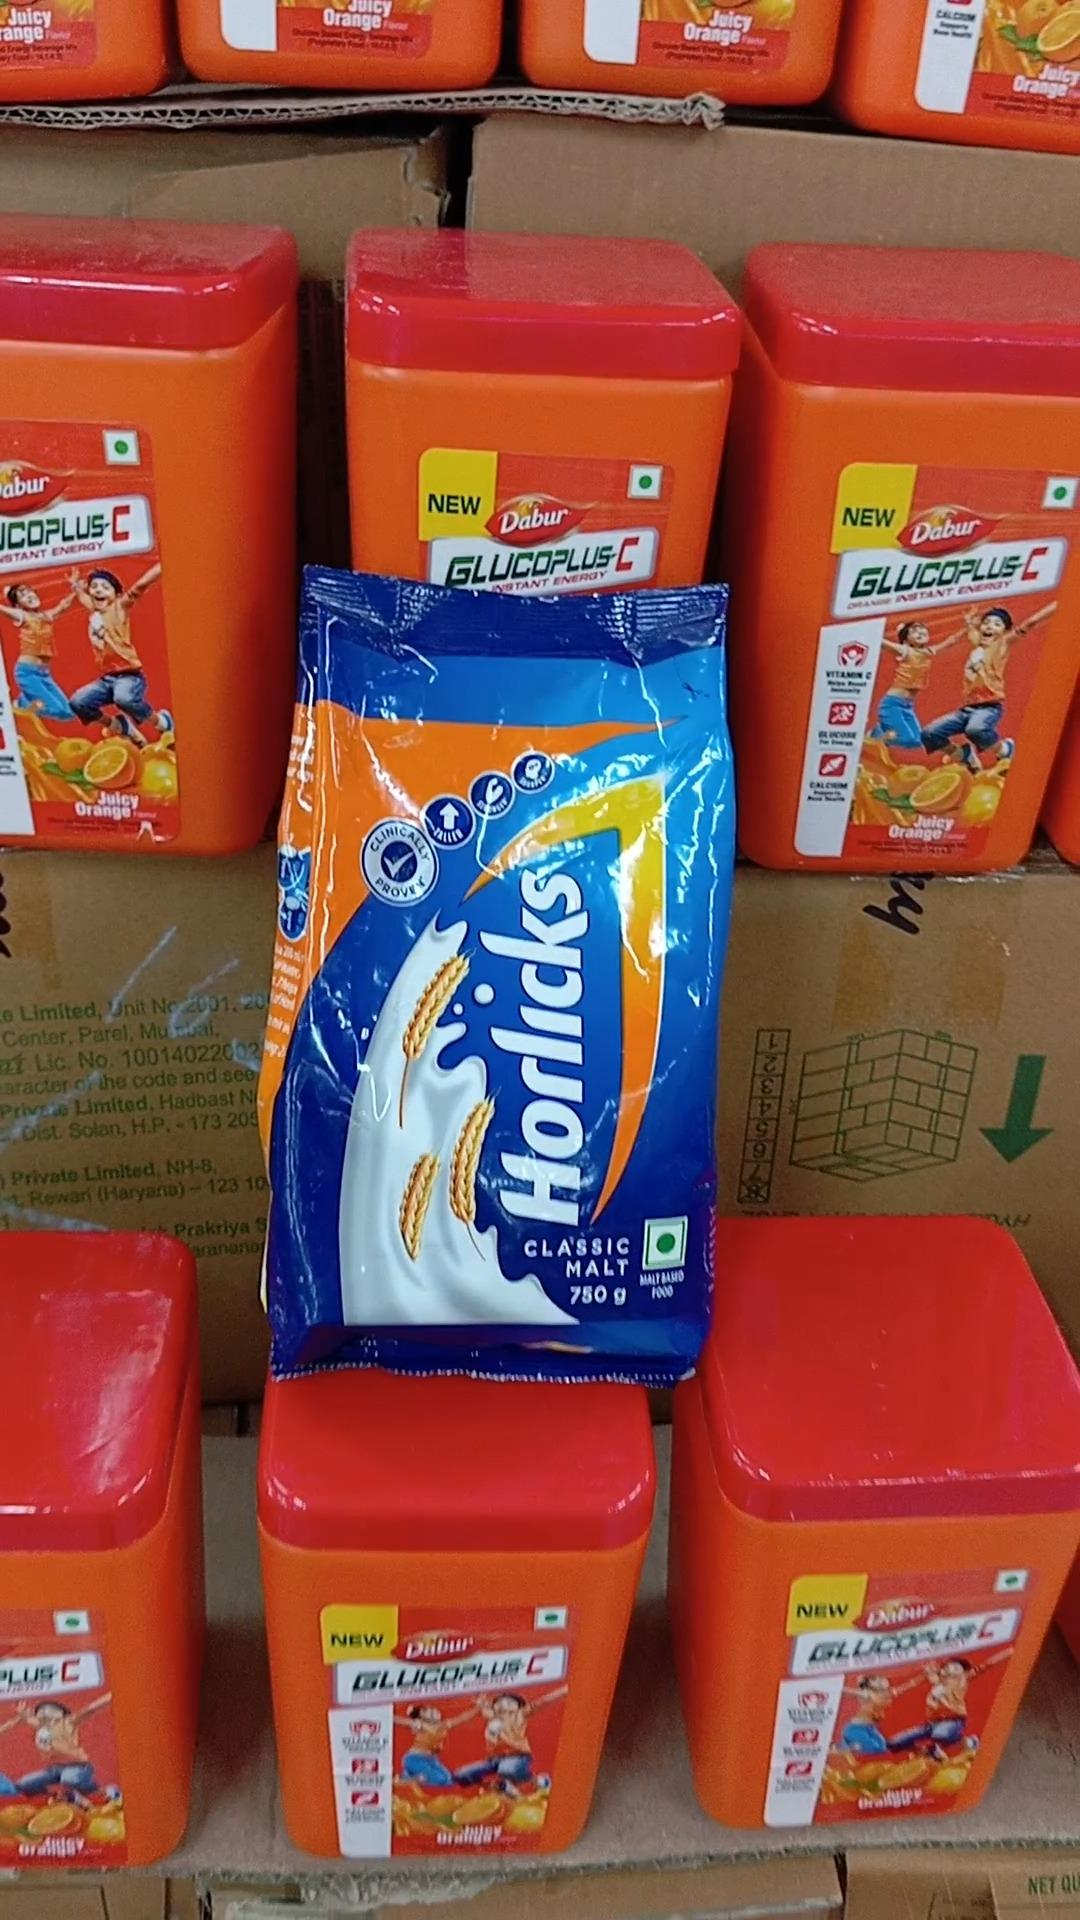HORLICK_CLASSIC_MALT_750_G_POUCH: (280, 555, 725, 1385)
